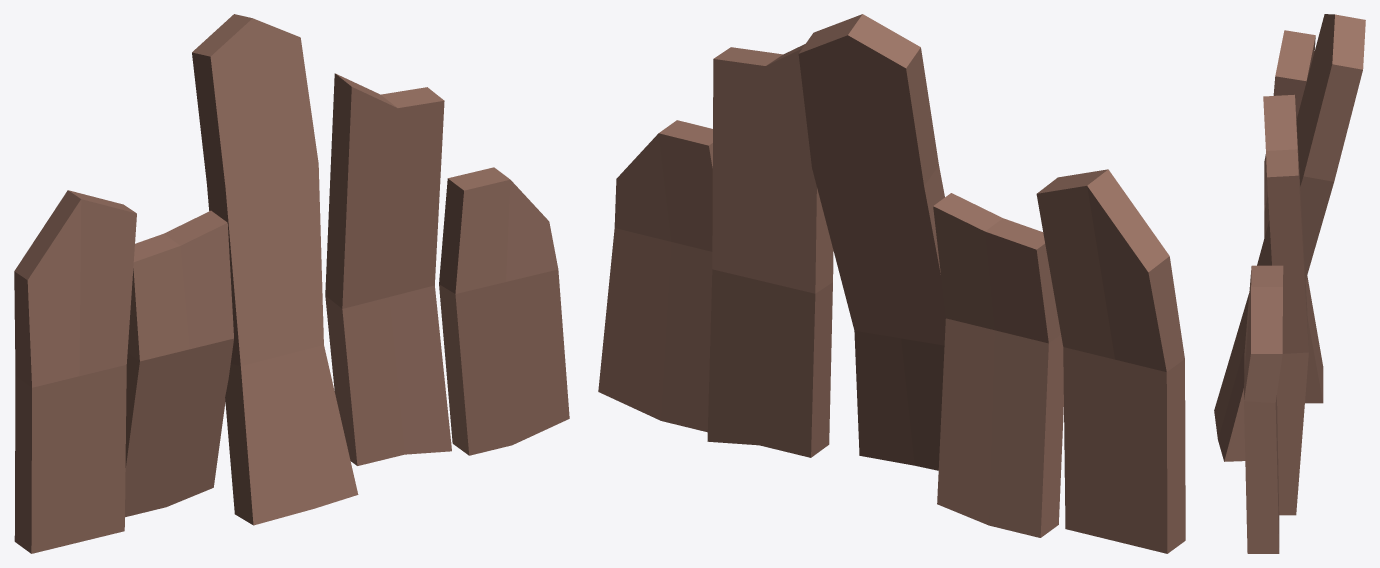
File: WoodenFence_03.fbx
The picture shows the model from 3 angles, left to right: view 1: azimuth 30°, elevation 25°; view 2: azimuth 150°, elevation 25°; view 3: azimuth 270°, elevation 25°; orthographic projection. The views are drawn at different scales.
Parts seen in each view (by area): view 1: WoodenFence_03; view 2: WoodenFence_03; view 3: WoodenFence_03.
Part boxes in pixels (x1,y1,x2,y2): WoodenFence_03: [14, 14, 569, 553]; WoodenFence_03: [598, 14, 1185, 553]; WoodenFence_03: [1214, 14, 1365, 553].
Size of the model in its own units: 307 by 247 by 79.97.
